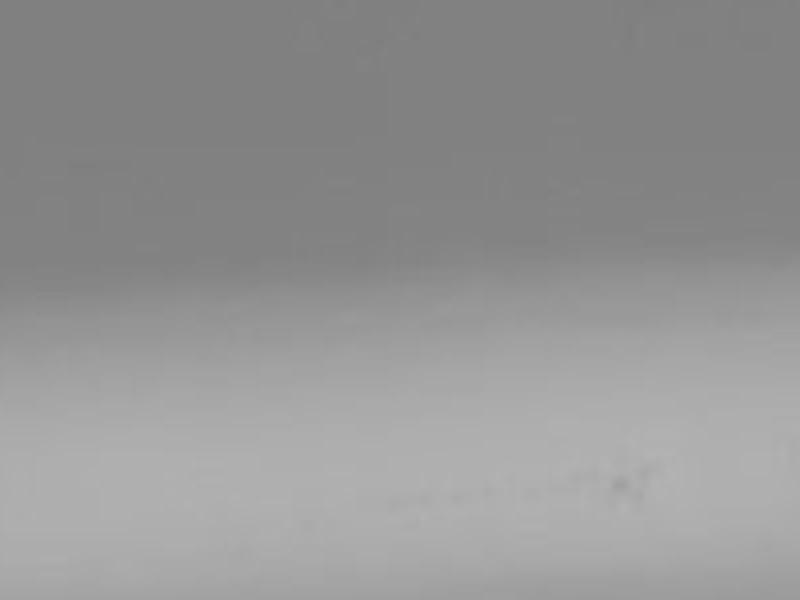defect: (609, 473, 632, 494)
